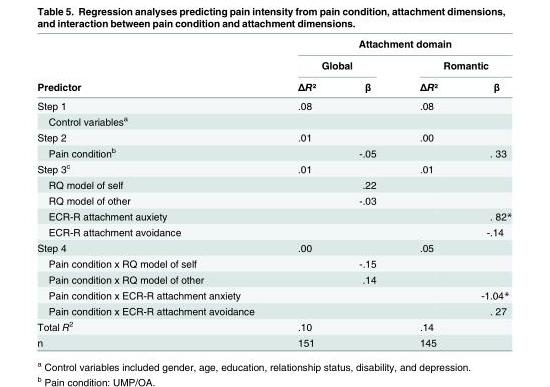table: (36, 37, 511, 347)
table column: (36, 37, 275, 347), (275, 37, 336, 347), (336, 37, 397, 347), (397, 37, 458, 347), (458, 37, 511, 347)
table column header: (36, 37, 511, 96)
table projected row header: (36, 112, 511, 129)
table row: (36, 53, 511, 75), (36, 75, 511, 96), (36, 112, 511, 129), (36, 159, 511, 176), (36, 317, 511, 334), (36, 37, 511, 53), (36, 96, 511, 112), (36, 176, 511, 192), (36, 207, 511, 223), (36, 223, 511, 239), (36, 239, 511, 255), (36, 255, 511, 271), (36, 286, 511, 302), (36, 129, 511, 144), (36, 144, 511, 159), (36, 192, 511, 207), (36, 271, 511, 286), (36, 302, 511, 317), (36, 334, 511, 347)
table spanning cell: (36, 37, 275, 96), (275, 37, 511, 53), (275, 53, 397, 75), (397, 53, 511, 75)
